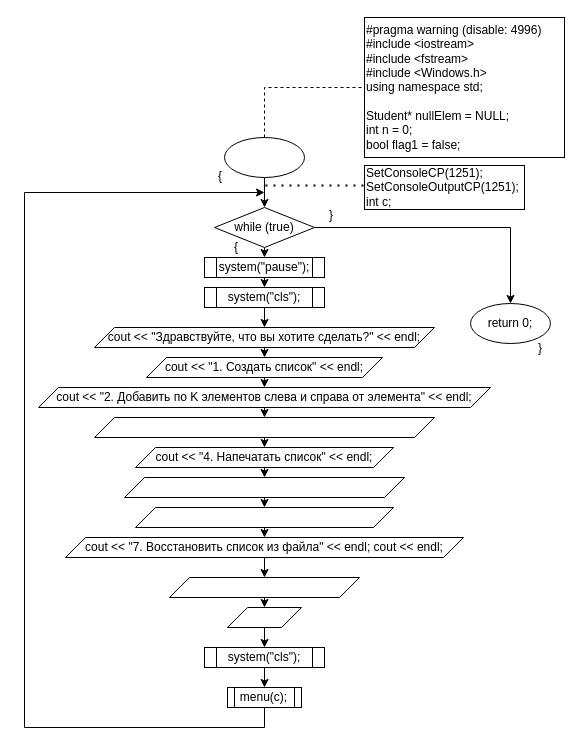
Image size: 582x753. Some labels were removed from this diagram. Here are the shapes that lost their labels. From the top down, the centre of each, then its label:
pixel 264 157: int main()
pixel 264 427: cout << "3. Удалить элемент из списка" << endl;
pixel 264 487: cout << "5. Записать список в файл" << endl;
pixel 264 517: cout << "6. Уничтожить список" << endl;
pixel 264 587: cout << "Введите c" << endl;
pixel 264 617: cin >> c;
